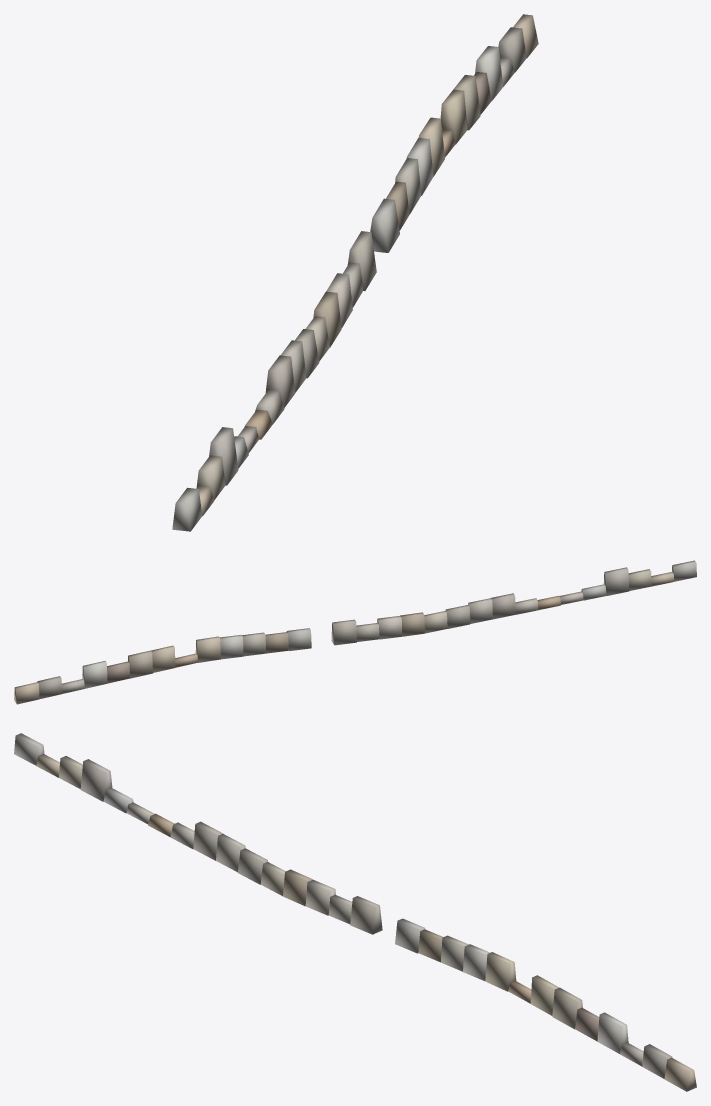
File: farm_-25_-29_collision.glb
The picture shows the model from 3 angles, top to bottom: view 1: azimuth 30°, elevation 25°; view 2: azimuth 150°, elevation 25°; view 3: azimuth 270°, elevation 25°; orthographic projection. The views are drawn at different scales.
Visible parts, largest first — view 1: geometry_0; view 2: geometry_0; view 3: geometry_0.
Boxes of the visible parts, bbox=[...] form: geometry_0: bbox=[172, 14, 538, 531]; geometry_0: bbox=[14, 560, 696, 704]; geometry_0: bbox=[14, 733, 696, 1091].
Bounding box in the file's own units: 33.52 × 4.48 × 34.46.
